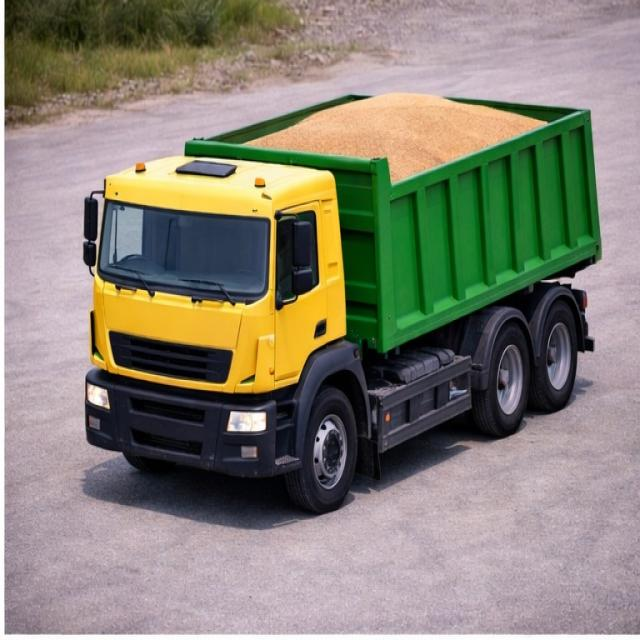trailer: (186, 91, 590, 180)
truck: (77, 83, 604, 496)
